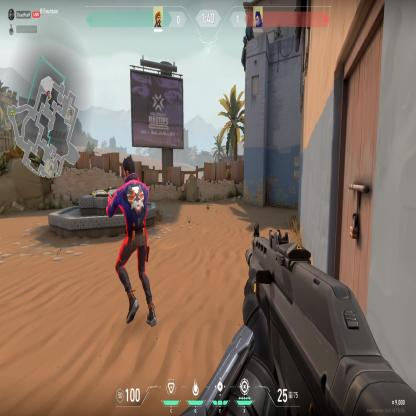enemy: (111, 150, 160, 334)
